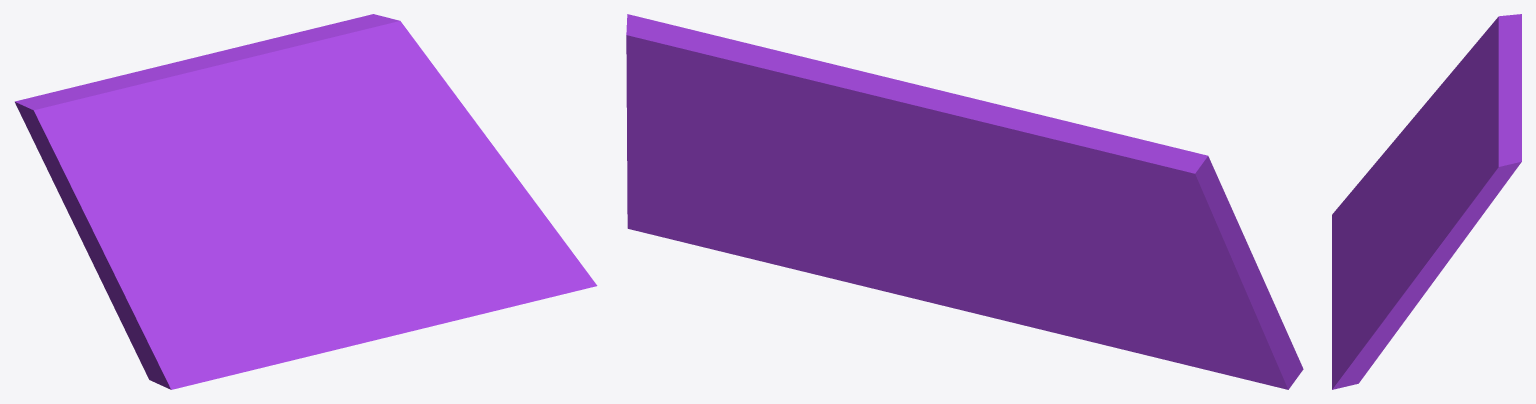
Rendered from Window_131_chunks.fbx.
3 views of the same model, side by side, from view 1: azimuth 30°, elevation 25°; view 2: azimuth 150°, elevation 25°; view 3: azimuth 270°, elevation 25° (orthographic). The views are drawn at different scales.
Visible parts, largest first — view 1: Window_131_2, Window_131_0, Window_131_3; view 2: Window_131_3, Window_131_2, Window_131_0, Window_131_1; view 3: Window_131_2, Window_131_3, Window_131_0.
Boxes of the visible parts, x1,y1,x2,y2 form: Window_131_2: (292, 14, 597, 337); Window_131_0: (61, 195, 385, 389); Window_131_3: (15, 16, 364, 198); Window_131_3: (640, 27, 1236, 248); Window_131_2: (626, 14, 942, 305); Window_131_0: (931, 215, 1303, 389); Window_131_1: (851, 164, 961, 226); Window_131_2: (1332, 152, 1521, 389); Window_131_3: (1420, 14, 1521, 189); Window_131_0: (1332, 77, 1447, 302).
Size of the model in its own units: 1735 by 763 by 720.
